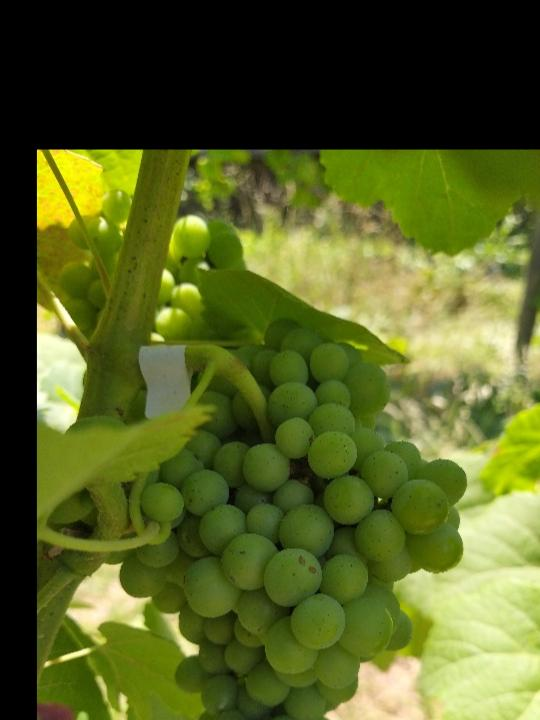grape: (106, 320, 468, 720)
